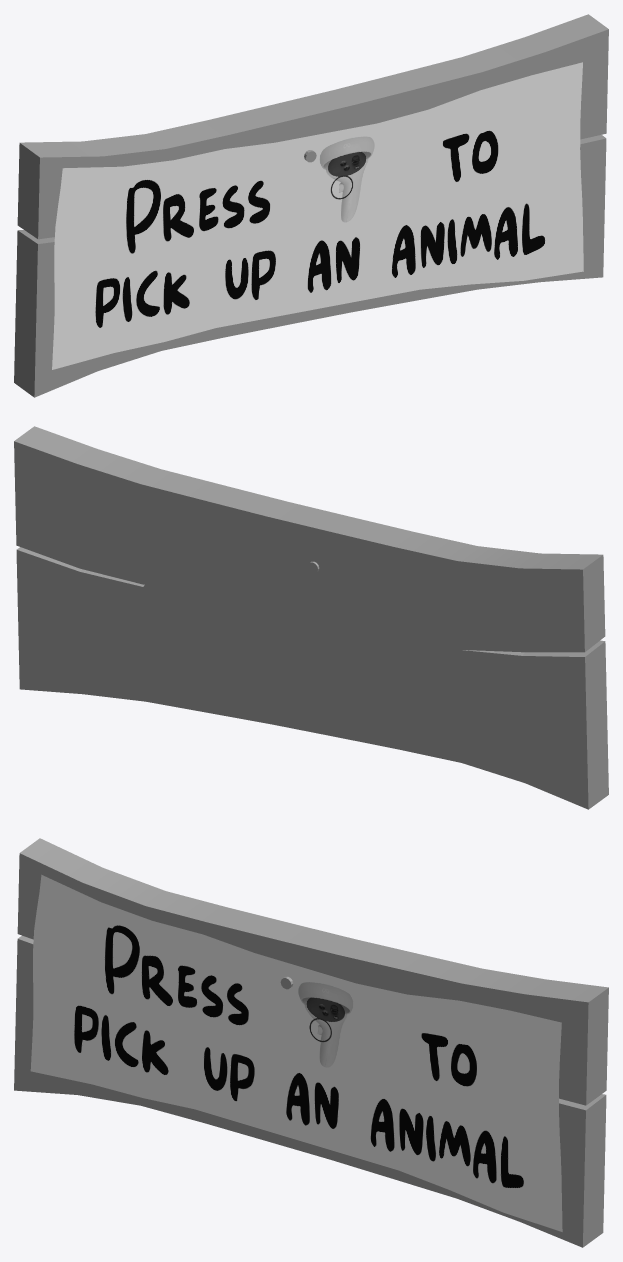
File: press-grip.fbx
The picture shows the model from 3 angles, top to bottom: view 1: azimuth 30°, elevation 25°; view 2: azimuth 150°, elevation 25°; view 3: azimuth 330°, elevation 25°; orthographic projection.
Visible parts, largest first — view 1: pPlane5, pCube214; view 2: pCube214; view 3: pPlane5, pCube214.
Part boxes in pixels (left/top/right/bottom): pPlane5: left=52, top=62, right=583, bottom=369; pCube214: left=14, top=14, right=608, bottom=397; pCube214: left=14, top=426, right=608, bottom=809; pPlane5: left=30, top=874, right=562, bottom=1231; pCube214: left=14, top=838, right=608, bottom=1247.
Bounding box in the file's own units: 5.4 × 2.31 × 0.3945.
